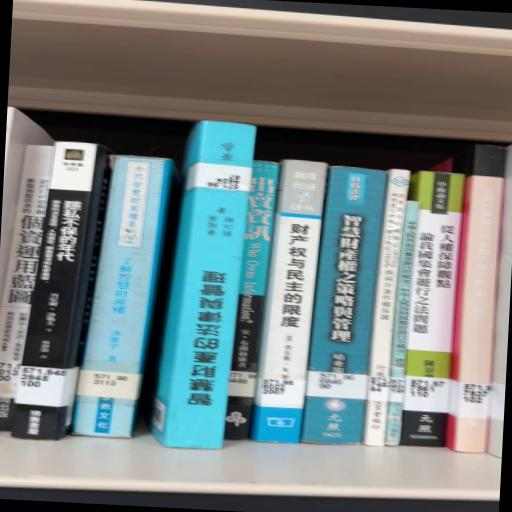reverse: (151, 122, 257, 450)
